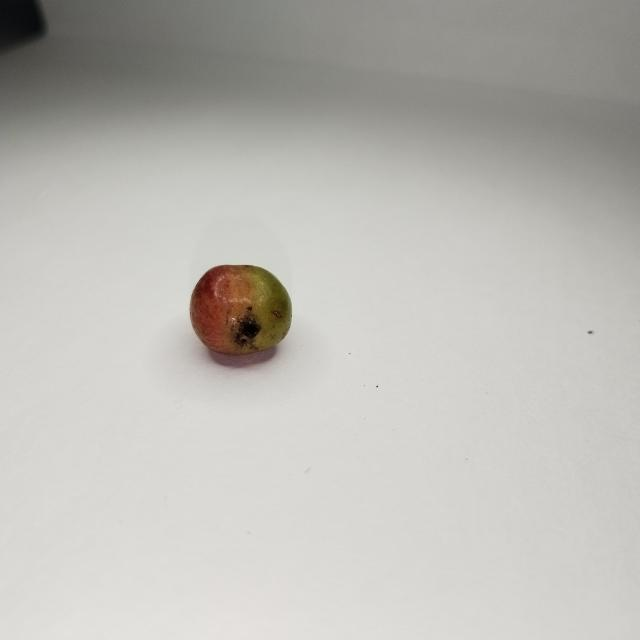Infectado: (188, 265, 294, 359)
